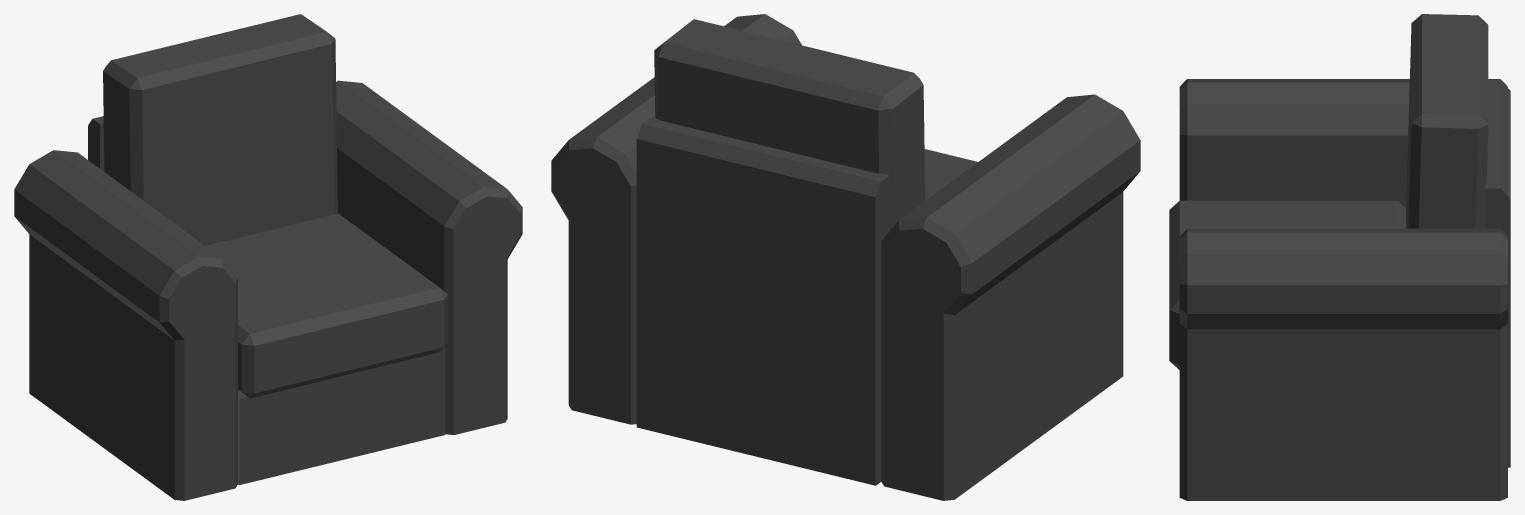
The model's file is SM_Props_Interior_House_Room_Sofa_03_Armchair.fbx.
The picture shows the model from 3 angles, left to right: view 1: azimuth 30°, elevation 25°; view 2: azimuth 150°, elevation 25°; view 3: azimuth 270°, elevation 25°; orthographic projection. The views are drawn at different scales.
Visible parts, largest first — view 1: SM_Props_Interior_House_Room_Sofa_03_Armchair; view 2: SM_Props_Interior_House_Room_Sofa_03_Armchair; view 3: SM_Props_Interior_House_Room_Sofa_03_Armchair.
Boxes of the visible parts, x1,y1,x2,y2 form: SM_Props_Interior_House_Room_Sofa_03_Armchair: (14,14,522,500); SM_Props_Interior_House_Room_Sofa_03_Armchair: (551,14,1140,500); SM_Props_Interior_House_Room_Sofa_03_Armchair: (1169,14,1510,500).
Bounding box in the file's own units: 88.02 × 75.14 × 66.5.
